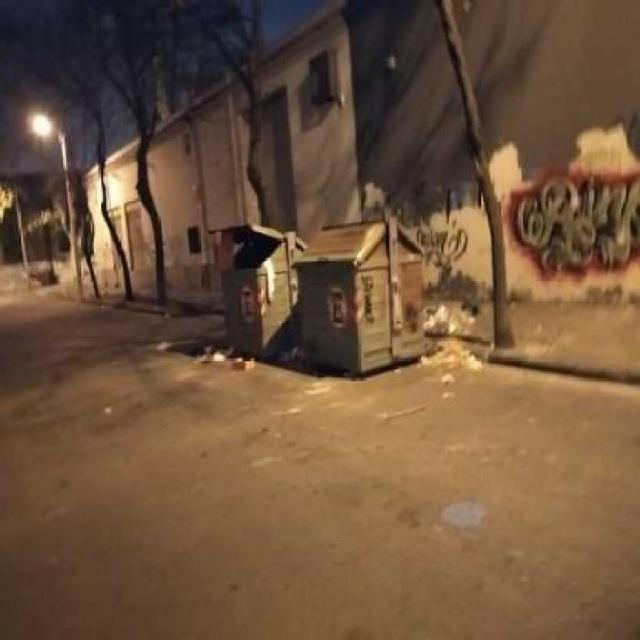garbage: (192, 220, 473, 411)
